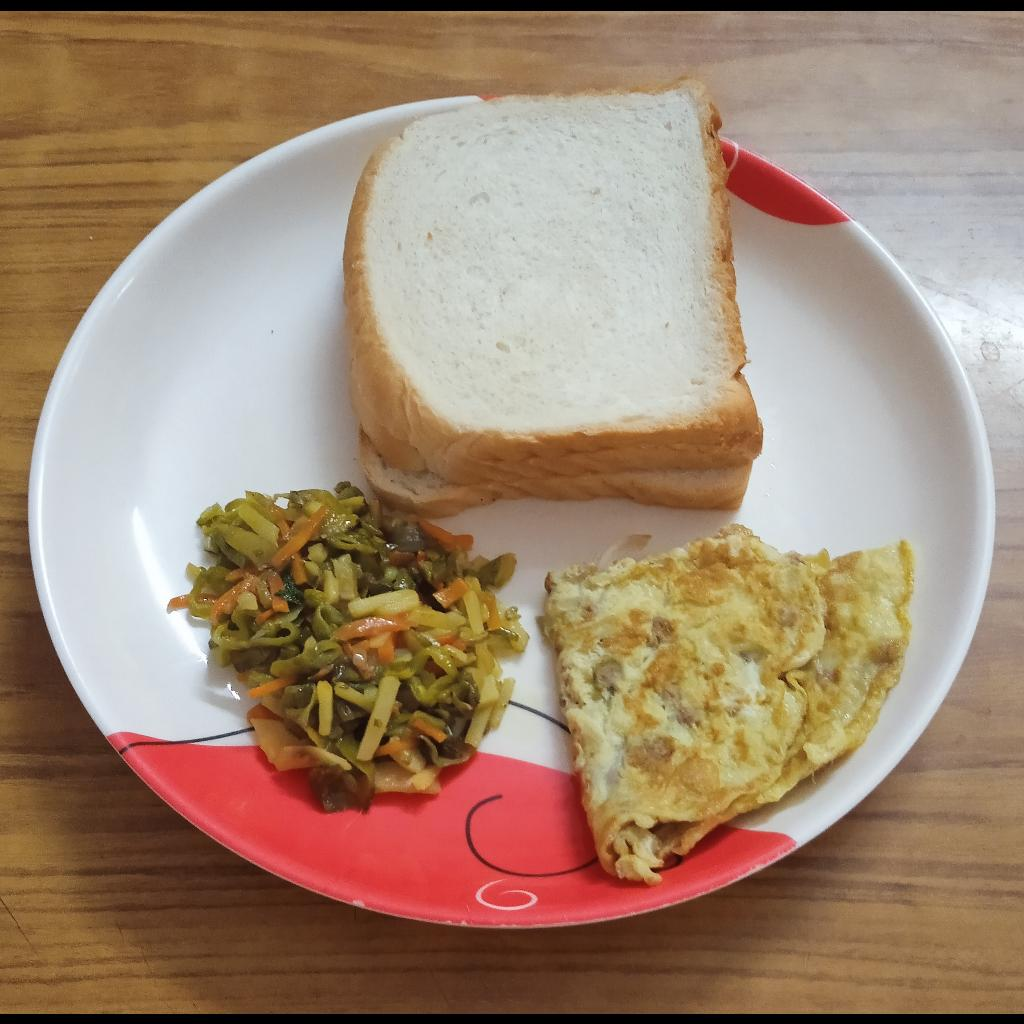bread: (344, 78, 767, 513)
egg-poached: (549, 524, 913, 884)
vegetable: (184, 480, 533, 817)
